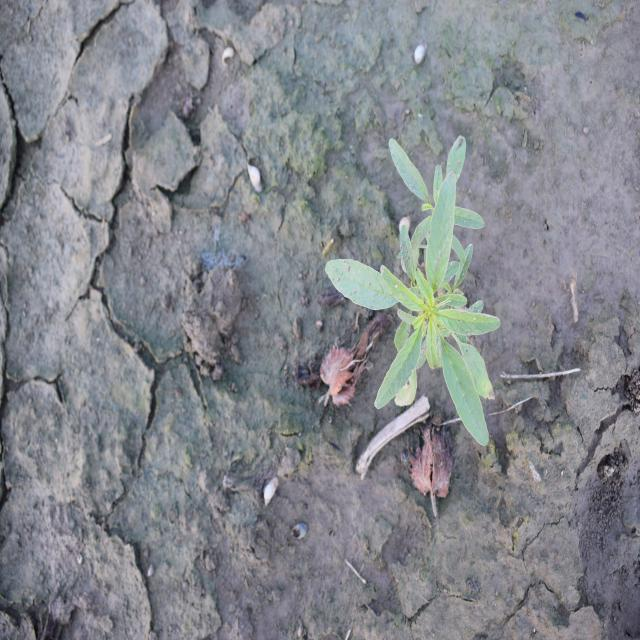Waterhemp: (323, 132, 502, 450)
